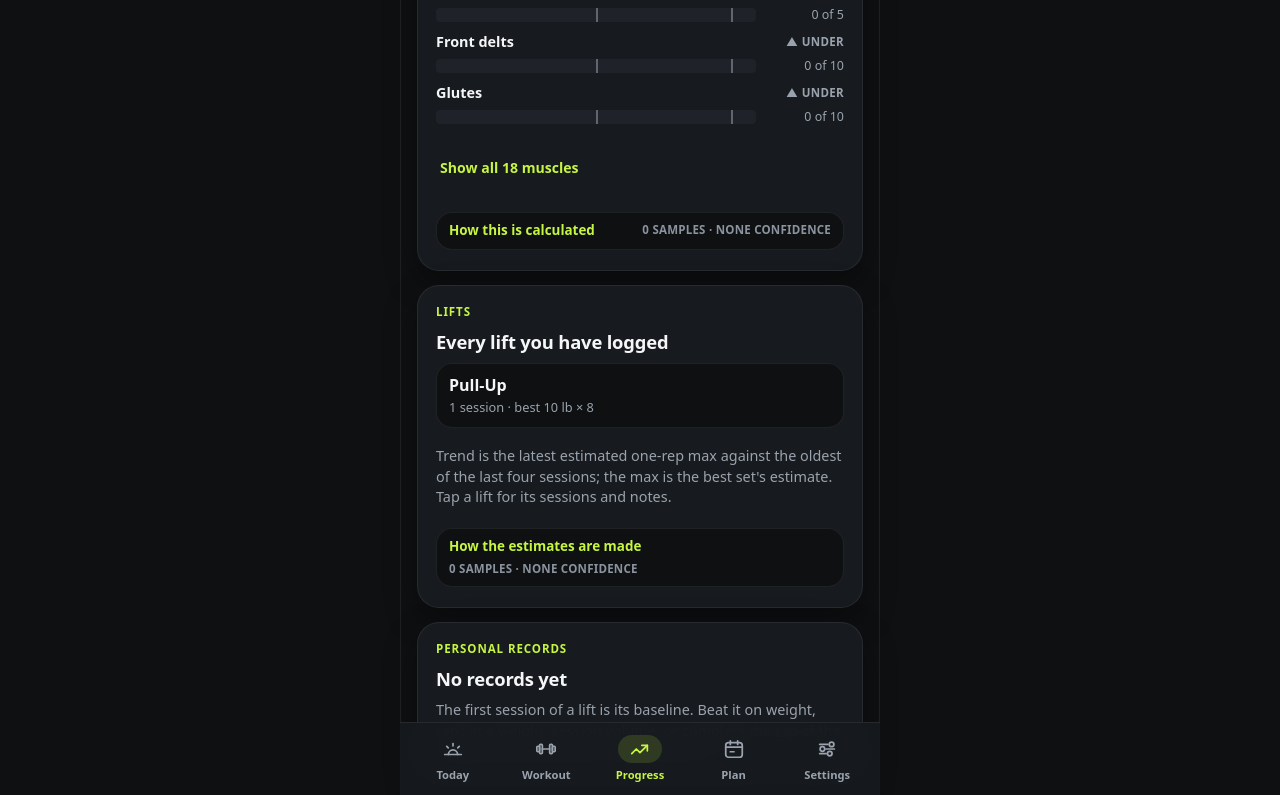
Progress, every lift once › shows no max for a pull-up with weight added, as the max sheet takes none (the third review)
(page scrolled)
Click the button with test id "exercise-progress-row" at (478, 385), box [436,363,844,428]
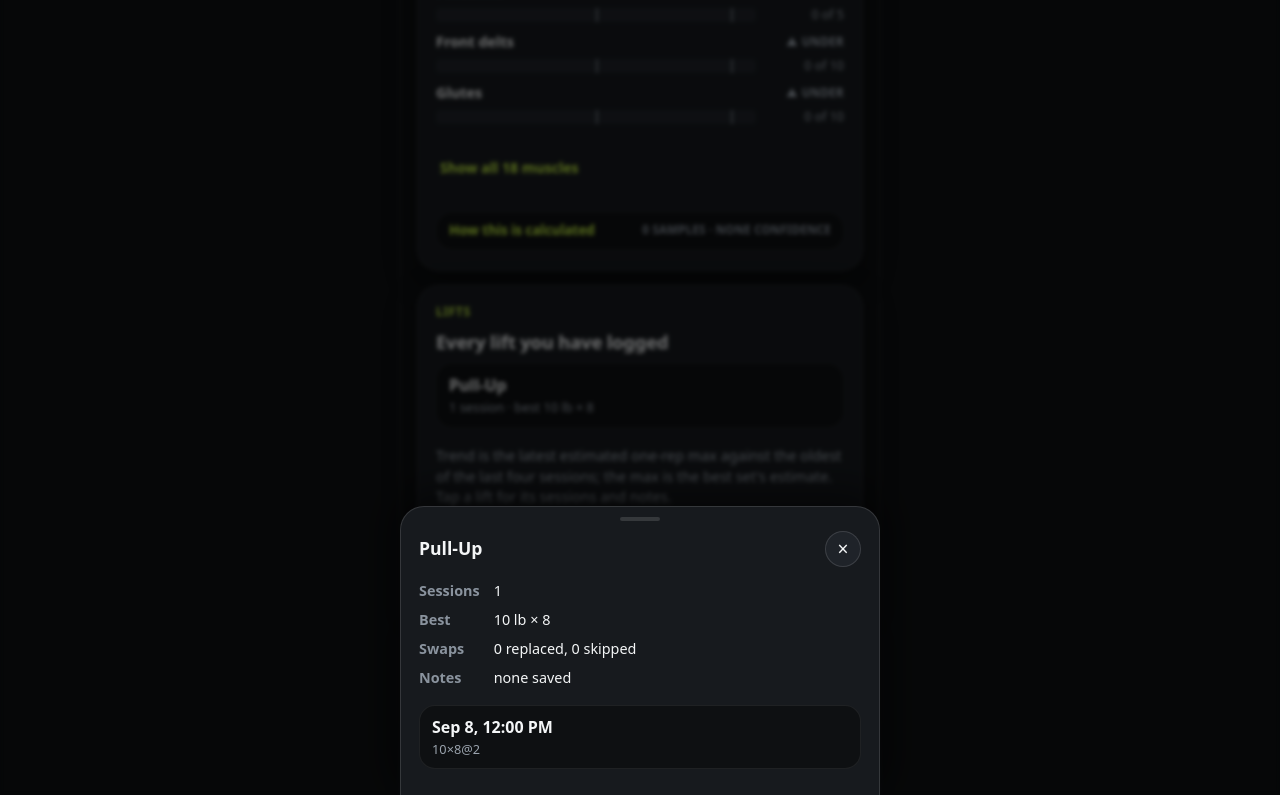
Now the text "10 lb × 8" is shown, box [494,610,550,629]
